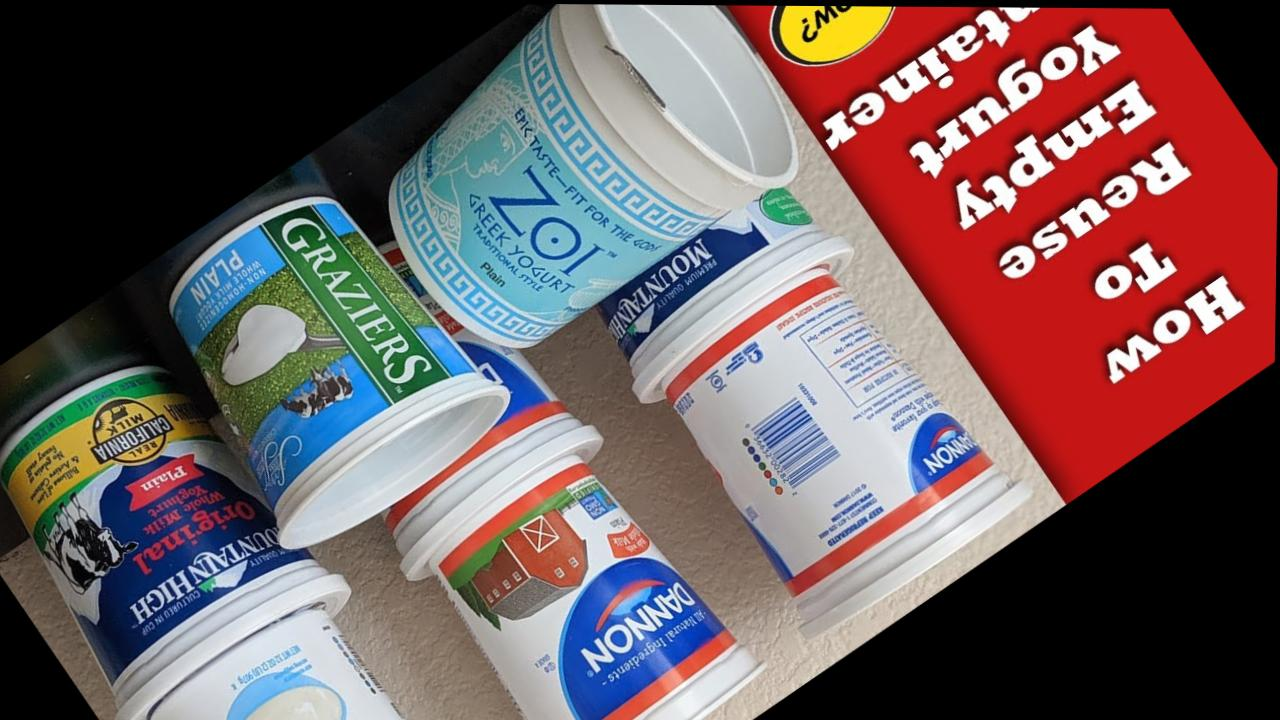plastic: (732, 0, 1275, 499), (602, 184, 1029, 634), (0, 305, 395, 719), (390, 5, 808, 351), (136, 162, 509, 545), (388, 414, 758, 719), (387, 343, 600, 582), (120, 607, 398, 719)
